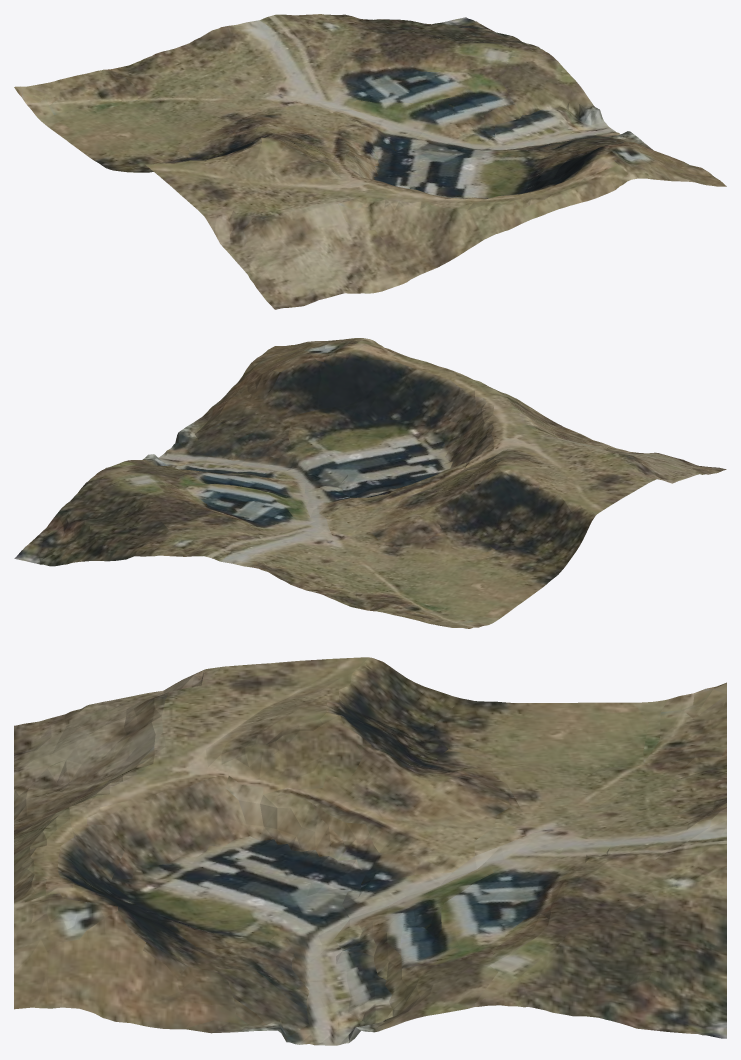
3 views of the same model, one above another, from view 1: azimuth 30°, elevation 25°; view 2: azimuth 150°, elevation 25°; view 3: azimuth 270°, elevation 25° (orthographic). The views are drawn at different scales.
Bounding box in the file's own units: 209 × 32.04 × 209.
Materials: 2 (2 with a texture image).
